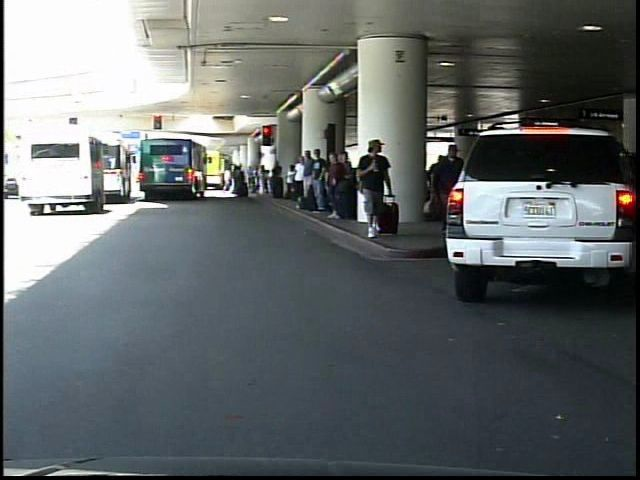person: (414, 134, 465, 244), (361, 136, 401, 243)
